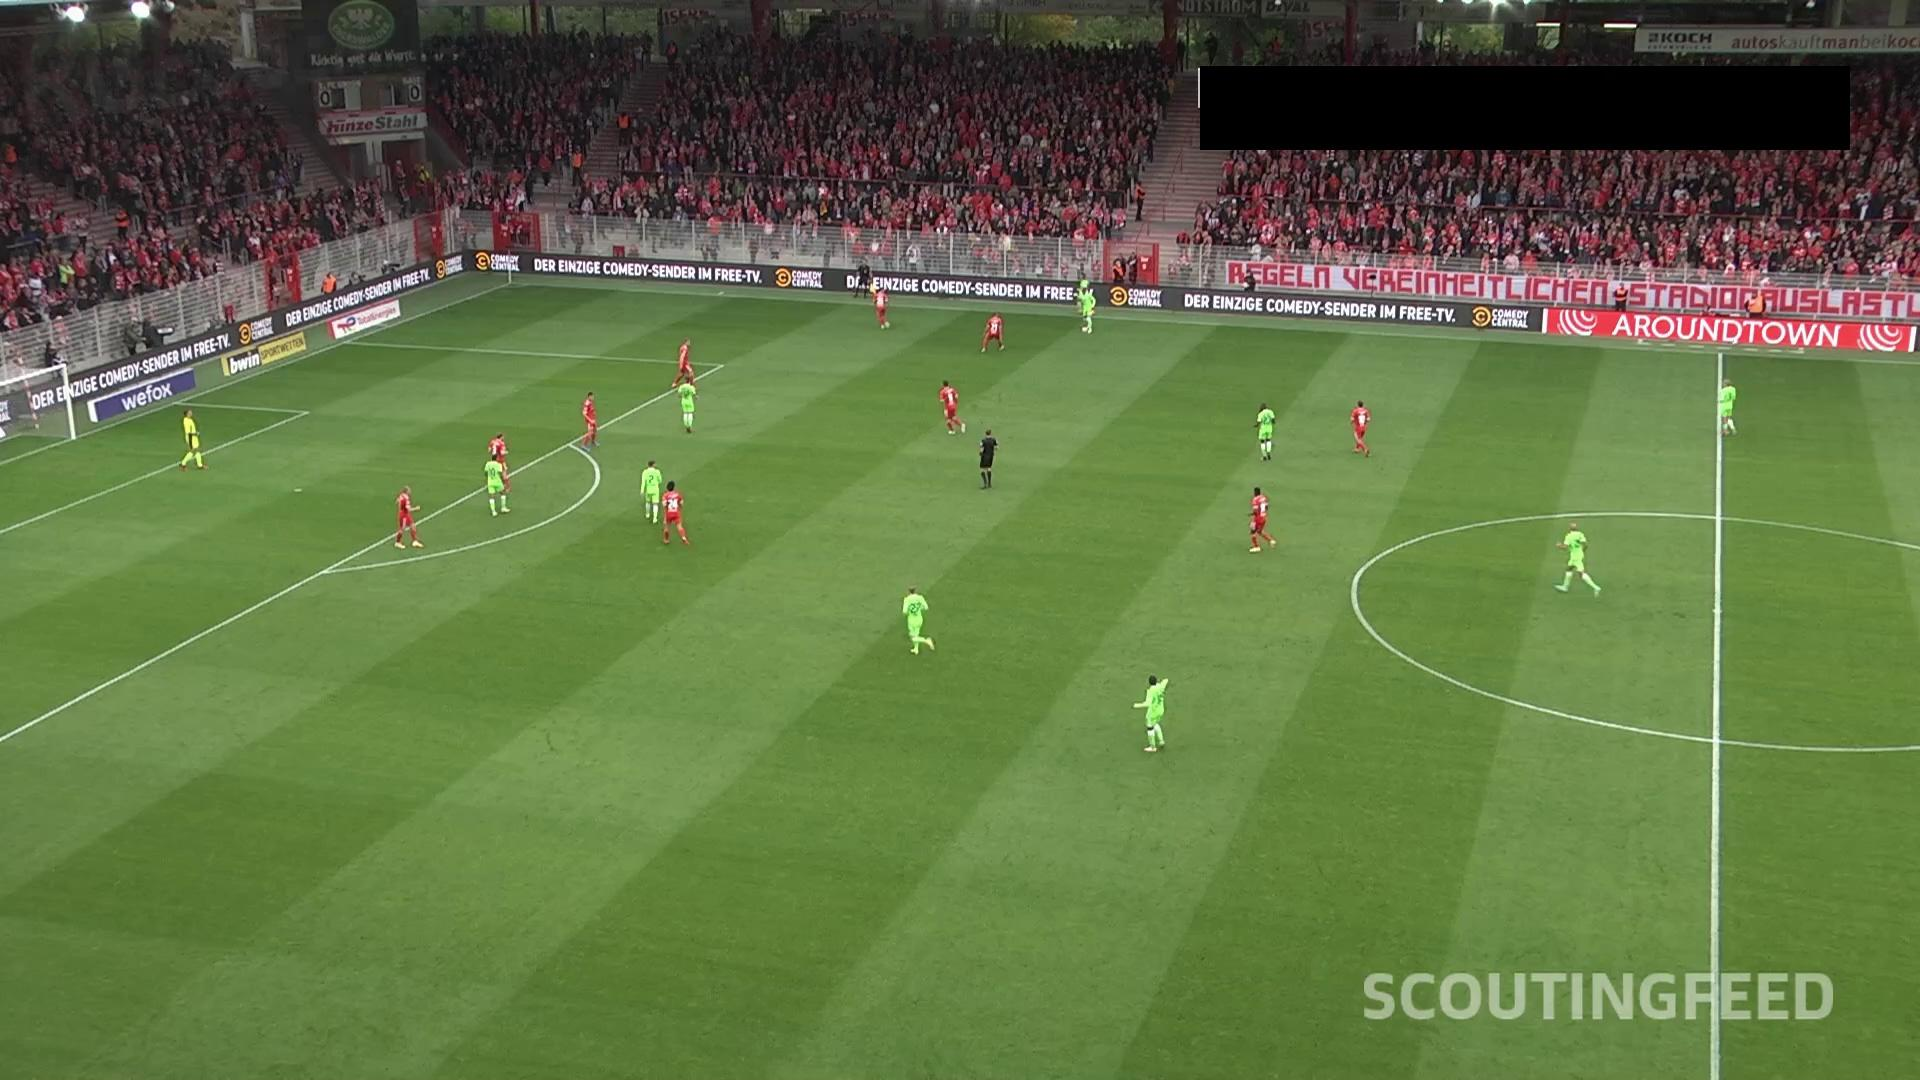Location-of-ball: (1072, 320, 1097, 336)
